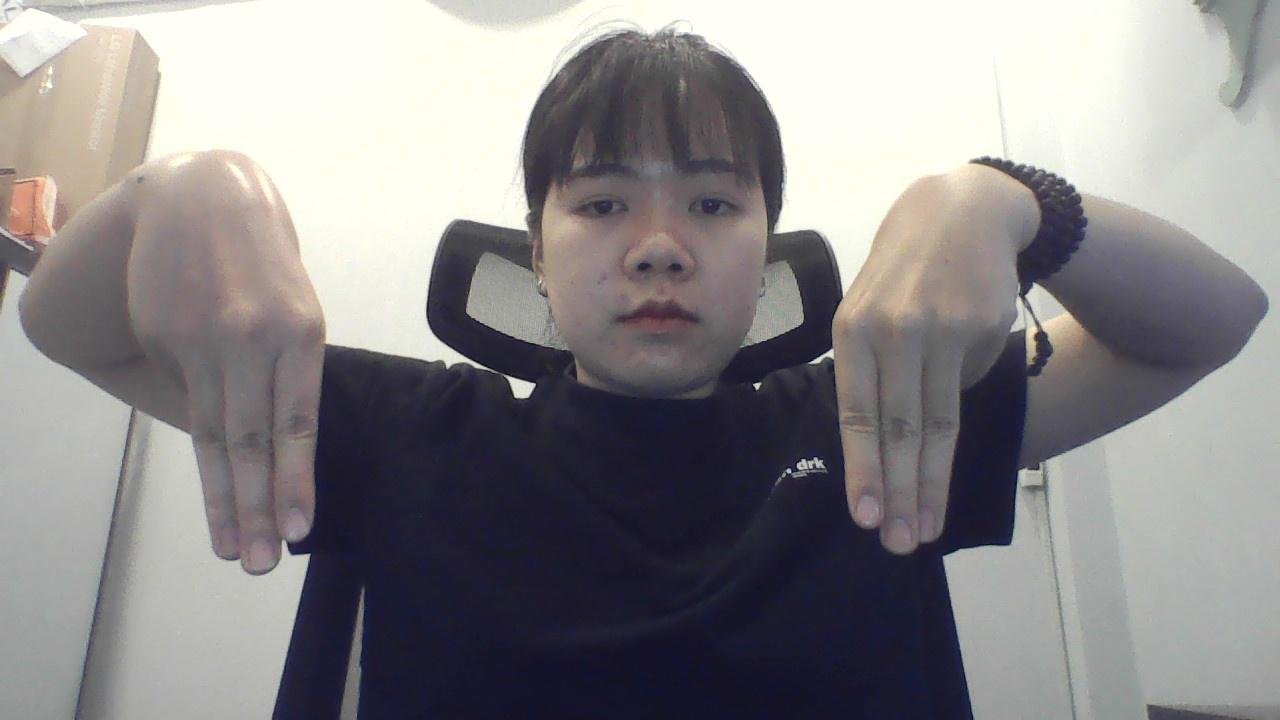M: (120, 136, 338, 578), (815, 146, 1017, 560)
